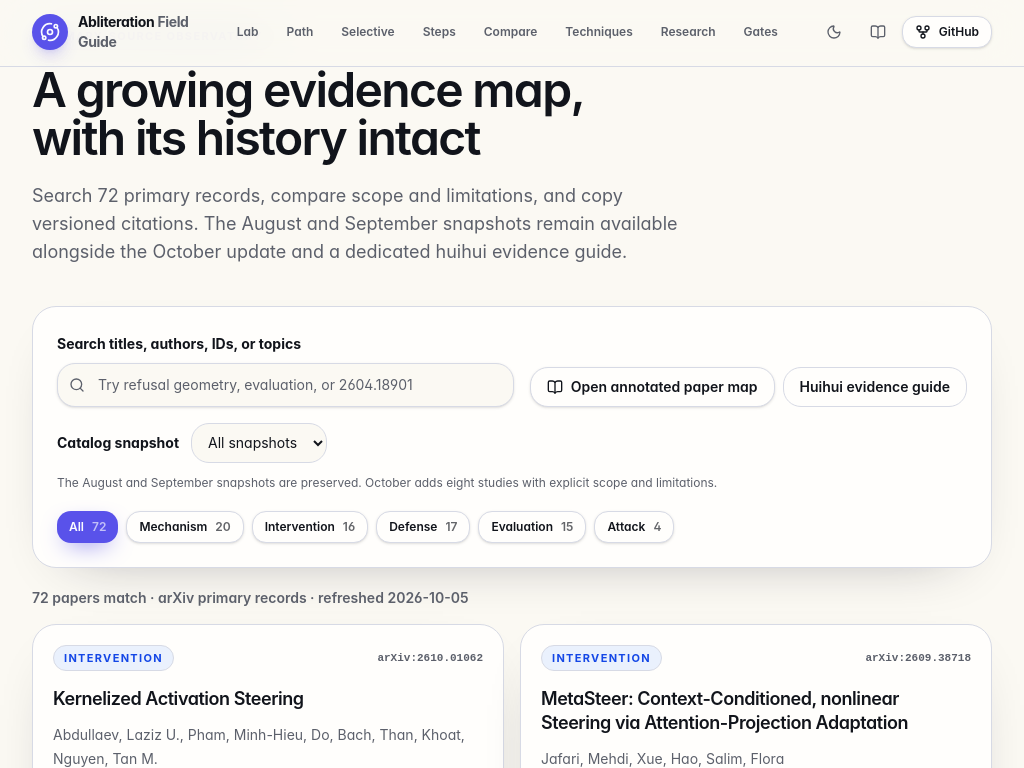
Scenario: Abliteration Field Guide › searches and facets the combined and preserved primary-source snapshots
This screenshot has width=1024, height=768.
(page scrolled)
Expected: the text "72 papers match · arXiv primary records · refreshed 2026-10-05" is shown, [32,589,468,606]
Type "2604.18901" into the field labelled "Search titles, authors, IDs, or topics" at {"x": 285, "y": 385}, box [57,363,514,407]
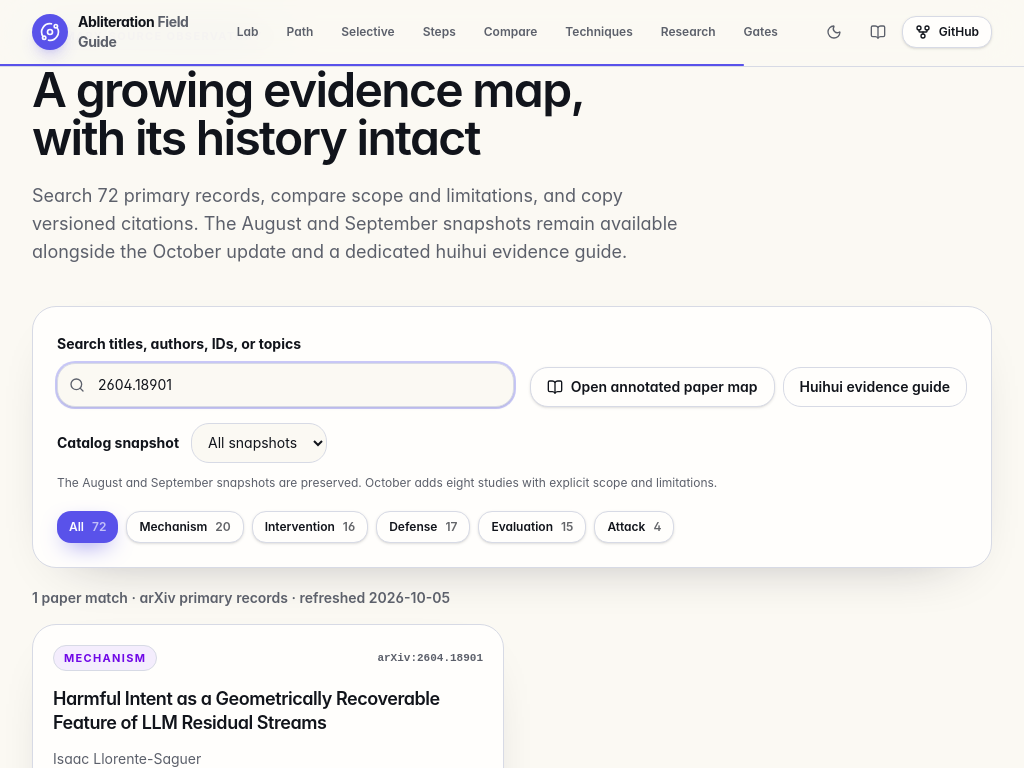
Result: the text "1 paper match · arXiv primary records · refreshed 2026-10-05" is shown at [32,589,450,606]
Result: the heading "Harmful Intent as a Geometrically Recoverable Feature" is shown at [53,687,483,735]
Clear the field labelled "Search titles, authors, IDs, or topics" at {"x": 285, "y": 385}, box [57,363,514,407]
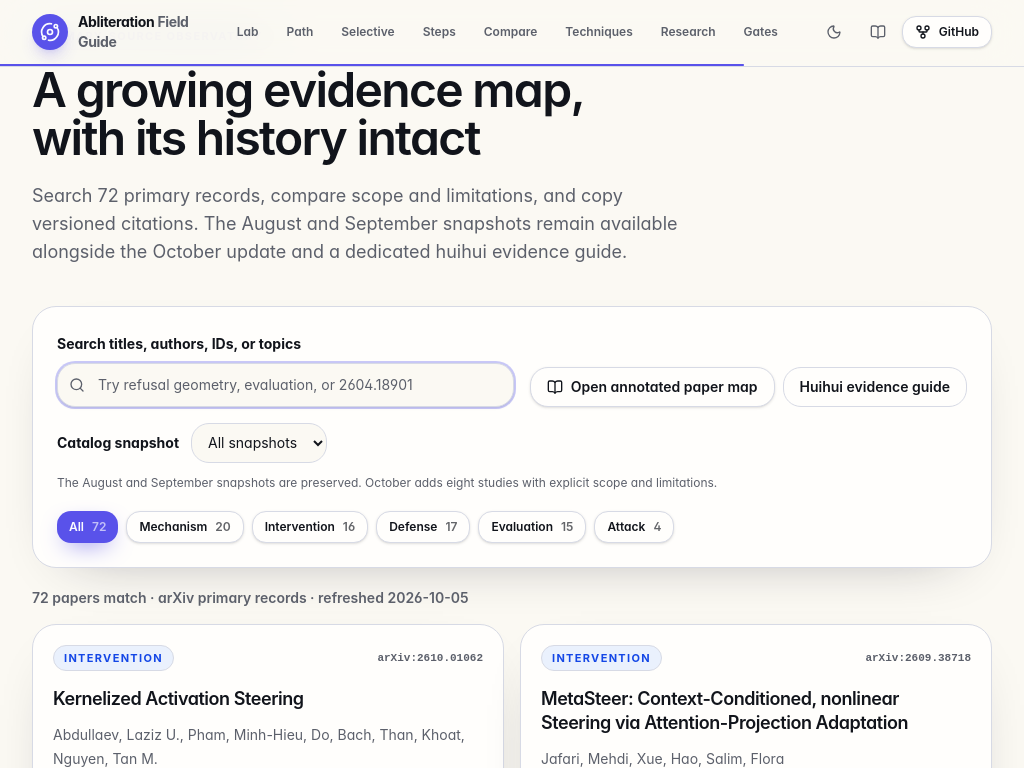
Select "2026-08-23" in the dropdown labelled "Catalog snapshot" at {"x": 259, "y": 443}, box [191,423,327,463]
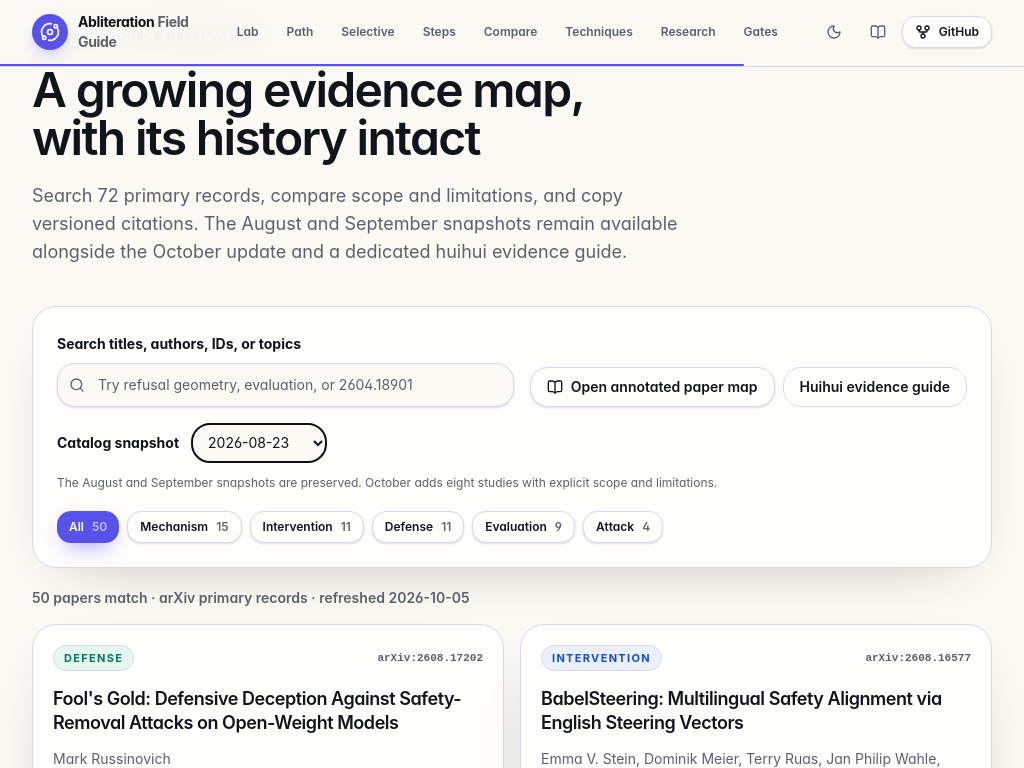
Result: the text "50 papers match · arXiv primary records · refreshed 2026-10-05" is shown at [32,589,470,606]
Click the button "Defense 11" at {"x": 418, "y": 527}, box [372,511,464,543]
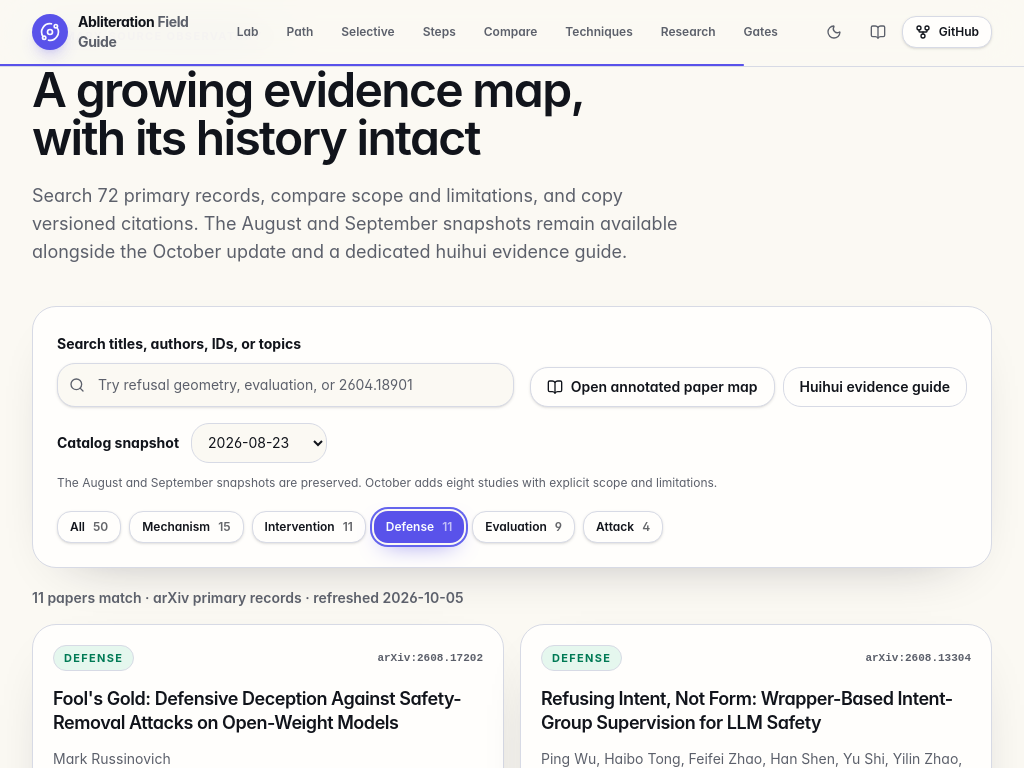
Result: the text "11 papers match · arXiv primary records · refreshed 2026-10-05" is shown at [32,589,464,606]
